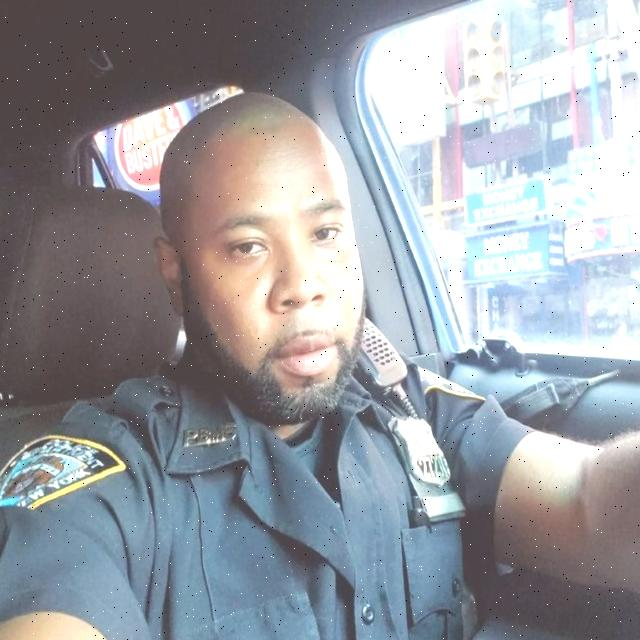police: (0, 53, 579, 640)
